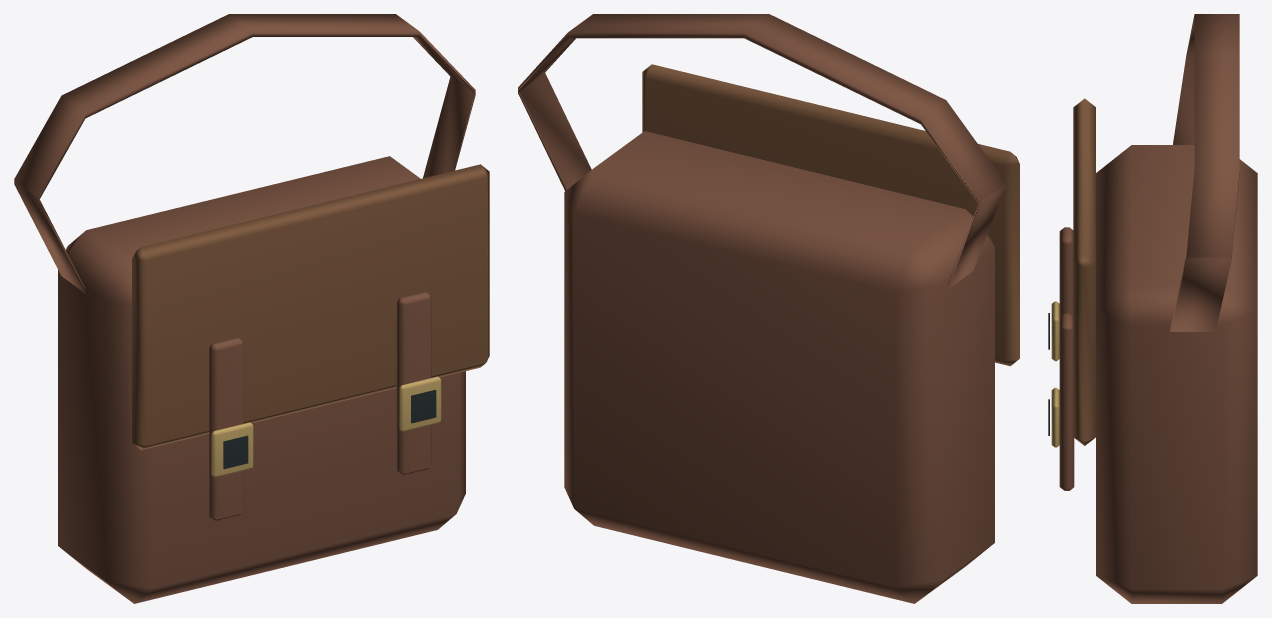
Rendered from P034_adventure_satchel_rebuilt.glb.
The picture shows the model from 3 angles, left to right: view 1: azimuth 30°, elevation 25°; view 2: azimuth 150°, elevation 25°; view 3: azimuth 270°, elevation 25°; orthographic projection. The views are drawn at different scales.
Visible parts, largest first — view 1: leather, wood, brass, dark; view 2: leather, wood; view 3: leather, wood, brass.
Boxes of the visible parts, x1,y1,x2,y2 form: leather: (14,14,475,603); wood: (132,164,489,450); brass: (211,376,441,477); dark: (223,390,436,469); leather: (518,14,1004,603); wood: (642,64,1019,366); leather: (1059,14,1257,603); wood: (1073,98,1095,445); brass: (1051,301,1059,447).
Bounding box in the file's own units: 0.3165 × 0.3533 × 0.139.
